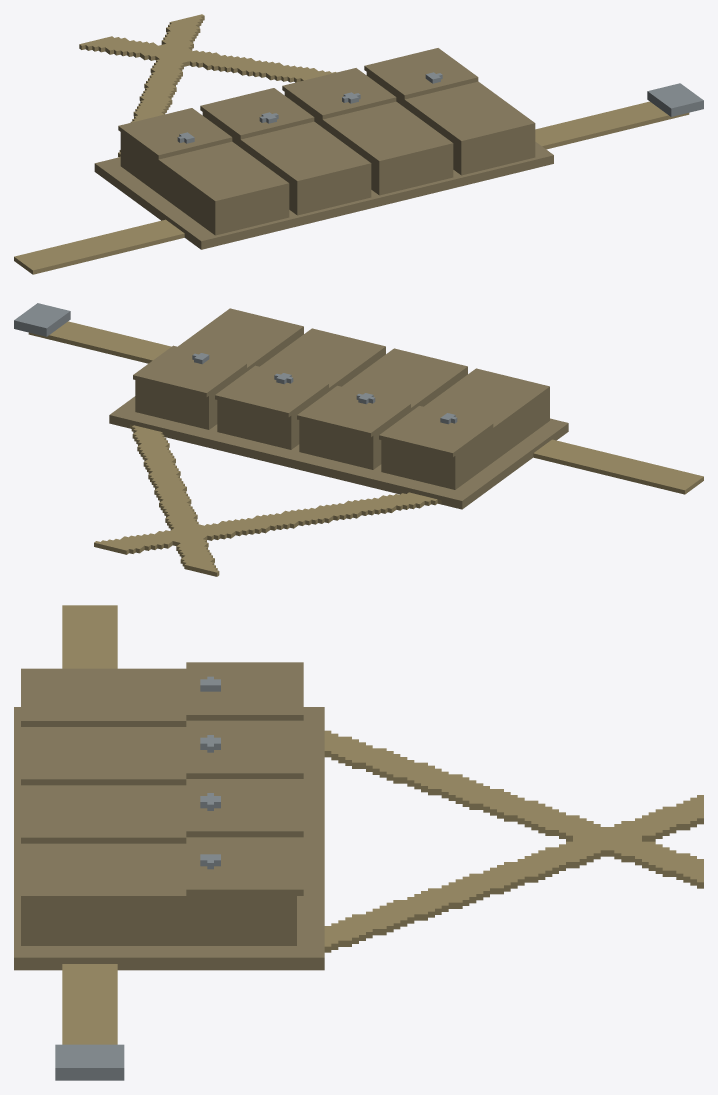
The model's file is chestrig.glb.
The picture shows the model from 3 angles, top to bottom: view 1: azimuth 30°, elevation 25°; view 2: azimuth 150°, elevation 25°; view 3: azimuth 270°, elevation 25°; orthographic projection. The views are drawn at different scales.
Visible parts, largest first — view 1: chestrig:compound; view 2: chestrig:compound; view 3: chestrig:compound.
Boxes of the visible parts, <box> form: chestrig:compound: <box>14,14,703,274</box>; chestrig:compound: <box>14,303,703,576</box>; chestrig:compound: <box>14,605,703,1080</box>.
Bounding box in the file's own units: 0.652 × 0.048 × 0.4.
